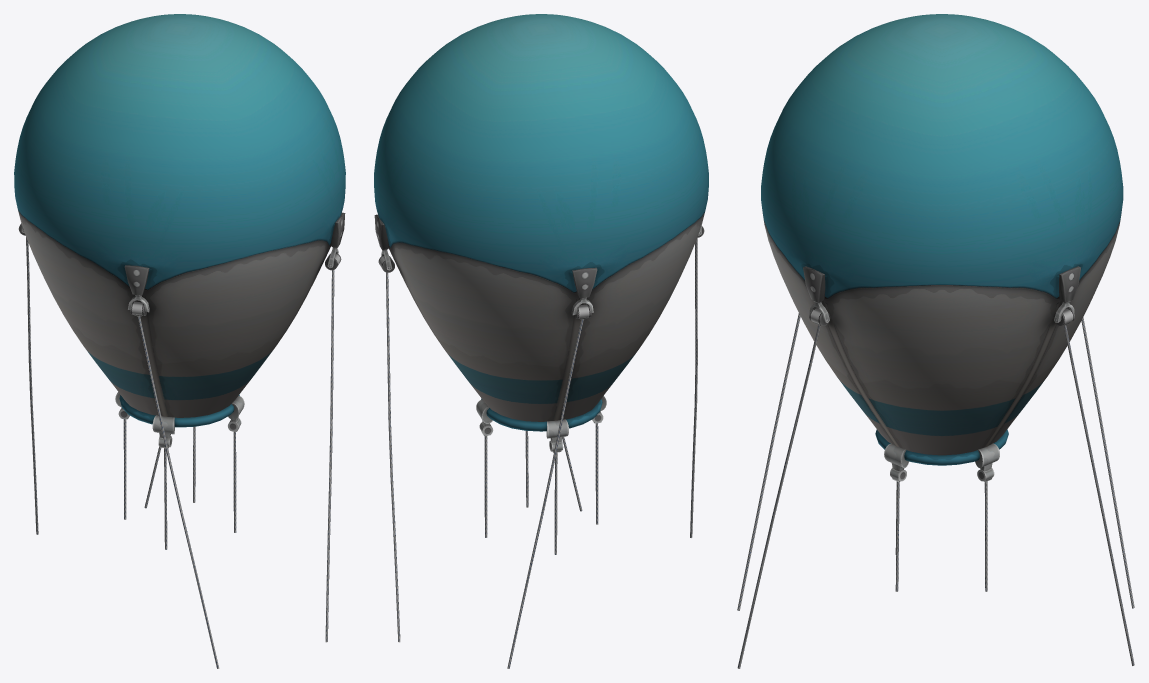
File: busBalloon.glb
3 views of the same model, side by side, from view 1: azimuth 30°, elevation 25°; view 2: azimuth 150°, elevation 25°; view 3: azimuth 270°, elevation 25° (orthographic). The views are drawn at different scales.
Parts seen in each view (by area): view 1: Vehicle_Athena_Bus_Balloon_Full; view 2: Vehicle_Athena_Bus_Balloon_Full; view 3: Vehicle_Athena_Bus_Balloon_Full.
Boxes of the visible parts, x1=… form: Vehicle_Athena_Bus_Balloon_Full: x1=14, y1=14, x2=345, y2=668; Vehicle_Athena_Bus_Balloon_Full: x1=374, y1=14, x2=708, y2=668; Vehicle_Athena_Bus_Balloon_Full: x1=737, y1=14, x2=1134, y2=668.
Size of the model in its own units: 7.41 by 13.78 by 8.14.
1 material, 1 textured.
